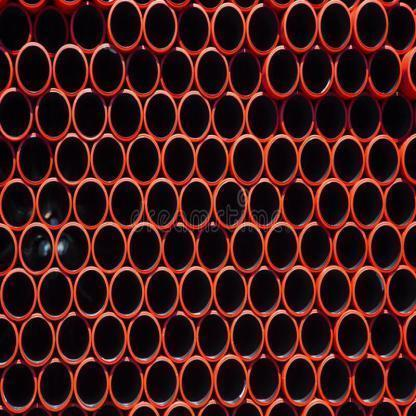pipe: (0, 359, 37, 414), (15, 42, 52, 96), (35, 89, 72, 142), (0, 268, 37, 321), (108, 356, 144, 410), (16, 134, 53, 186), (0, 178, 36, 231), (74, 358, 110, 411), (38, 358, 74, 411), (54, 133, 90, 185), (19, 223, 55, 275), (144, 266, 180, 318), (37, 268, 73, 320), (56, 312, 92, 364), (18, 314, 54, 366), (90, 43, 125, 96), (72, 89, 108, 140), (90, 134, 126, 185), (36, 178, 72, 229), (73, 178, 109, 229), (91, 222, 127, 273), (74, 266, 110, 317), (127, 222, 162, 274), (55, 222, 90, 274), (109, 266, 144, 318), (144, 356, 179, 408), (53, 44, 88, 96), (214, 355, 248, 408), (70, 2, 106, 52), (108, 90, 143, 141), (126, 134, 161, 185), (109, 178, 144, 229), (127, 312, 162, 363), (194, 47, 229, 98), (144, 90, 178, 142), (178, 90, 212, 142), (180, 356, 214, 408), (300, 45, 334, 97), (266, 46, 300, 98), (126, 46, 160, 98), (161, 135, 196, 185), (108, 0, 143, 50), (231, 134, 265, 185), (248, 178, 282, 229), (179, 178, 213, 229), (196, 222, 230, 273), (369, 222, 403, 273), (162, 222, 196, 273), (318, 1, 352, 52), (354, 1, 388, 52), (284, 1, 318, 52), (248, 266, 282, 317), (180, 266, 214, 317), (299, 310, 333, 361), (196, 311, 230, 362), (92, 313, 126, 364), (248, 354, 282, 405), (352, 354, 386, 405), (283, 355, 317, 406), (160, 47, 194, 98), (0, 88, 33, 140), (143, 0, 176, 52), (265, 310, 298, 362), (231, 310, 264, 362), (318, 354, 351, 406), (348, 92, 382, 142), (280, 92, 314, 142), (265, 134, 299, 184), (213, 179, 247, 229), (145, 179, 179, 229), (266, 222, 300, 272), (298, 222, 332, 272), (212, 4, 246, 54), (246, 4, 280, 54), (318, 266, 352, 316), (352, 266, 386, 316), (34, 6, 68, 56), (162, 312, 196, 362), (368, 46, 402, 96), (351, 178, 384, 229), (317, 178, 350, 229), (334, 222, 367, 273), (231, 222, 264, 273), (282, 265, 315, 316), (212, 92, 245, 142), (245, 92, 278, 142), (195, 136, 228, 186), (214, 267, 247, 317), (335, 310, 368, 360), (335, 46, 368, 96), (366, 136, 400, 184), (178, 4, 210, 55), (300, 136, 332, 186), (282, 179, 314, 229), (0, 4, 32, 54), (370, 310, 402, 360), (386, 2, 416, 55), (332, 136, 365, 184), (229, 50, 262, 98), (315, 93, 347, 142), (386, 265, 416, 317), (384, 178, 415, 228), (382, 92, 413, 141), (385, 355, 416, 404), (0, 314, 19, 368), (0, 224, 18, 276), (402, 222, 416, 272), (368, 398, 402, 416), (264, 398, 298, 415), (300, 399, 335, 415)
